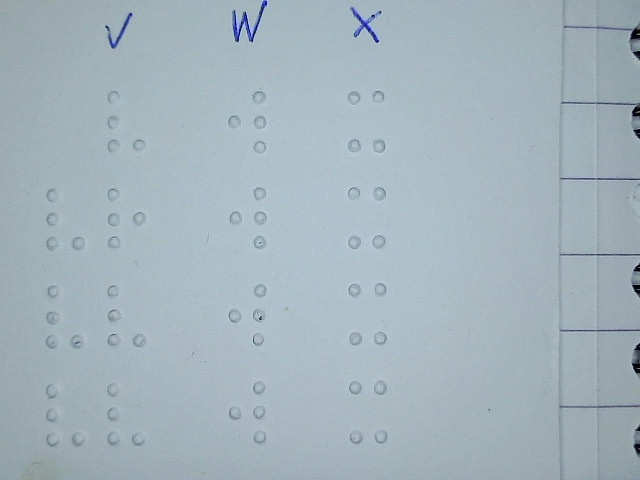V: (105, 88, 148, 153), (44, 187, 87, 252), (105, 283, 148, 348), (104, 381, 147, 446), (44, 382, 87, 447)
W: (226, 89, 269, 154), (228, 185, 271, 250), (227, 281, 270, 346), (226, 378, 269, 443)
X: (345, 88, 388, 153), (345, 184, 388, 249), (346, 280, 389, 345), (347, 378, 390, 443)
